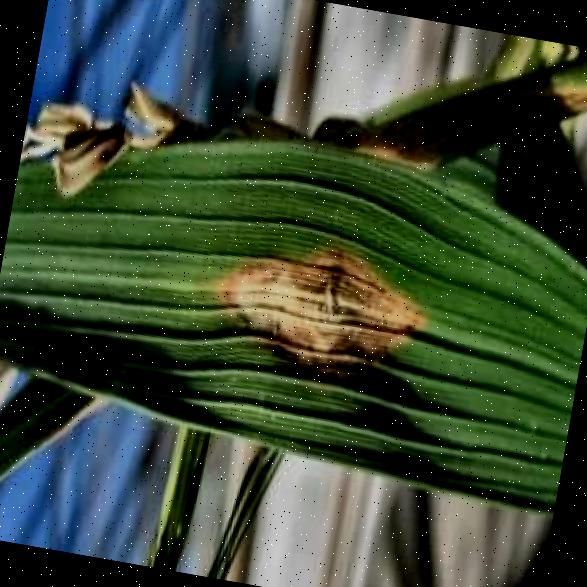Leaf_smut: (190, 213, 444, 401)
